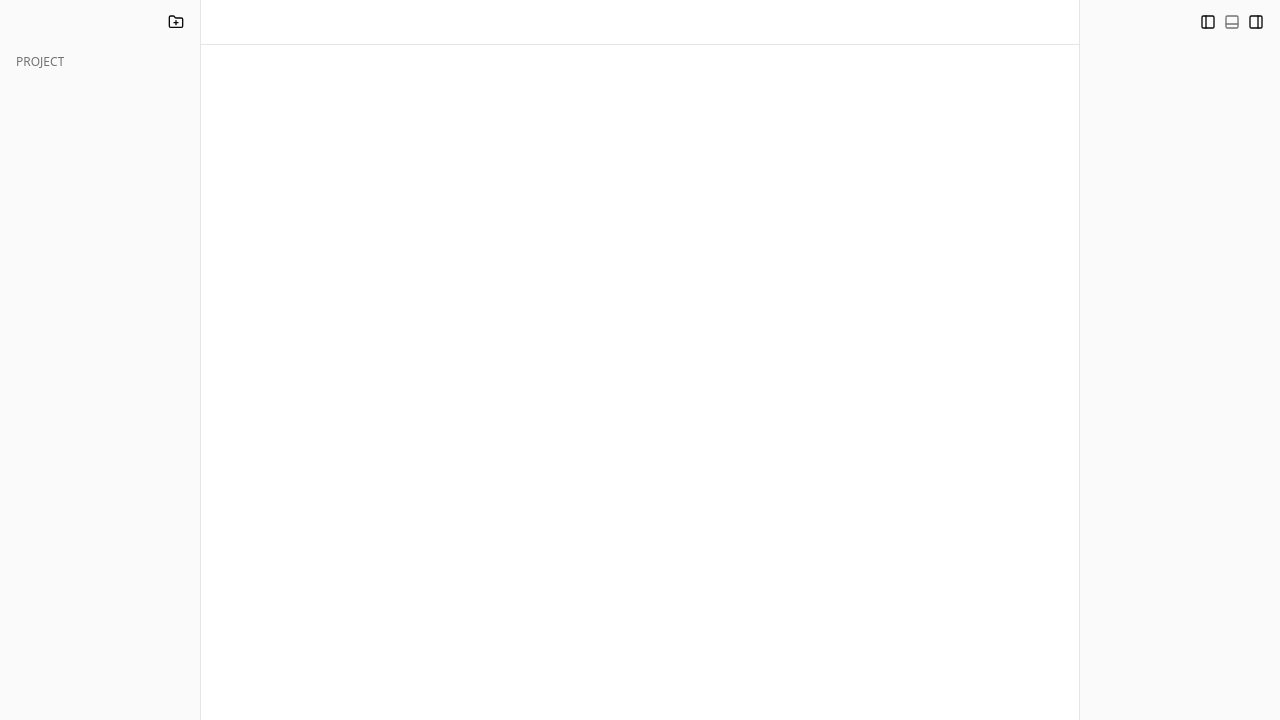
A session's context menu › shows archived sessions only while the workspace shows them
The width and height of the screenshot is (1280, 720).
Expected: the text "Archived" is not shown
Right-click the heading "project".
right_click(40, 62)  # box x1=16 y1=53 x2=64 y2=71
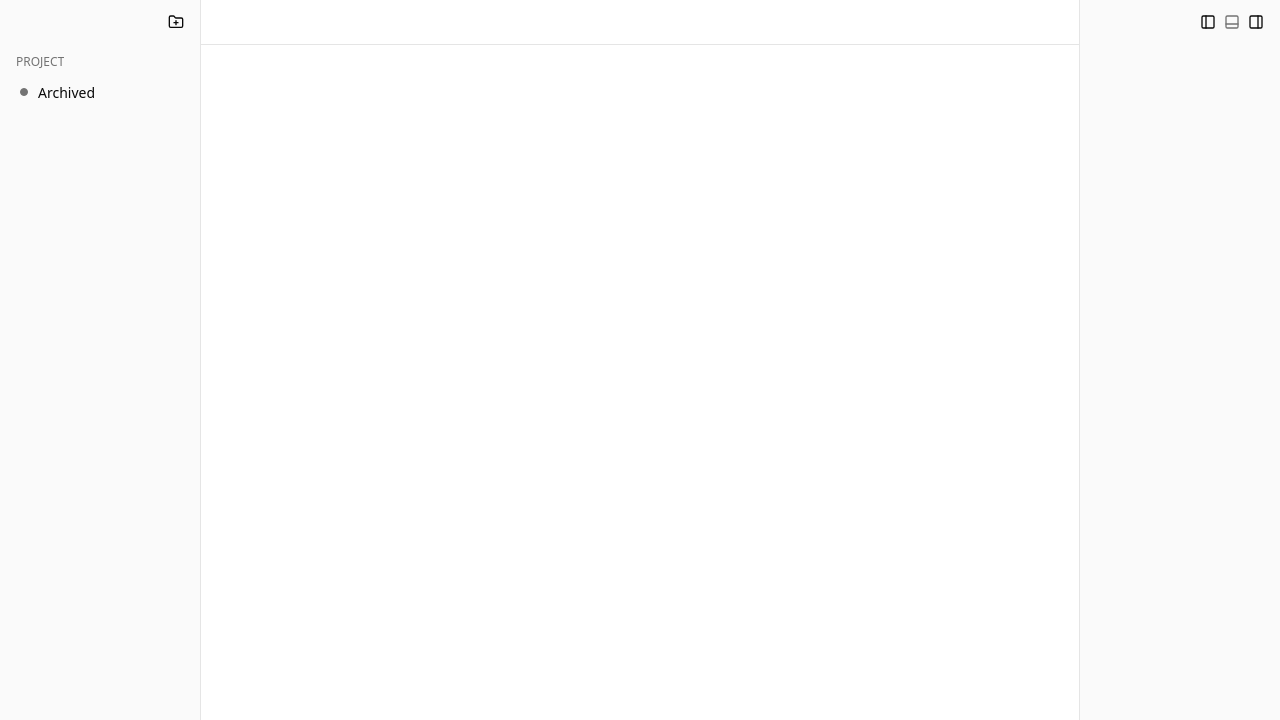
Right-click the list item "Archived".
right_click(100, 92)  # box x1=8 y1=76 x2=192 y2=108
Right-click the heading "project".
right_click(40, 62)  # box x1=16 y1=53 x2=64 y2=71
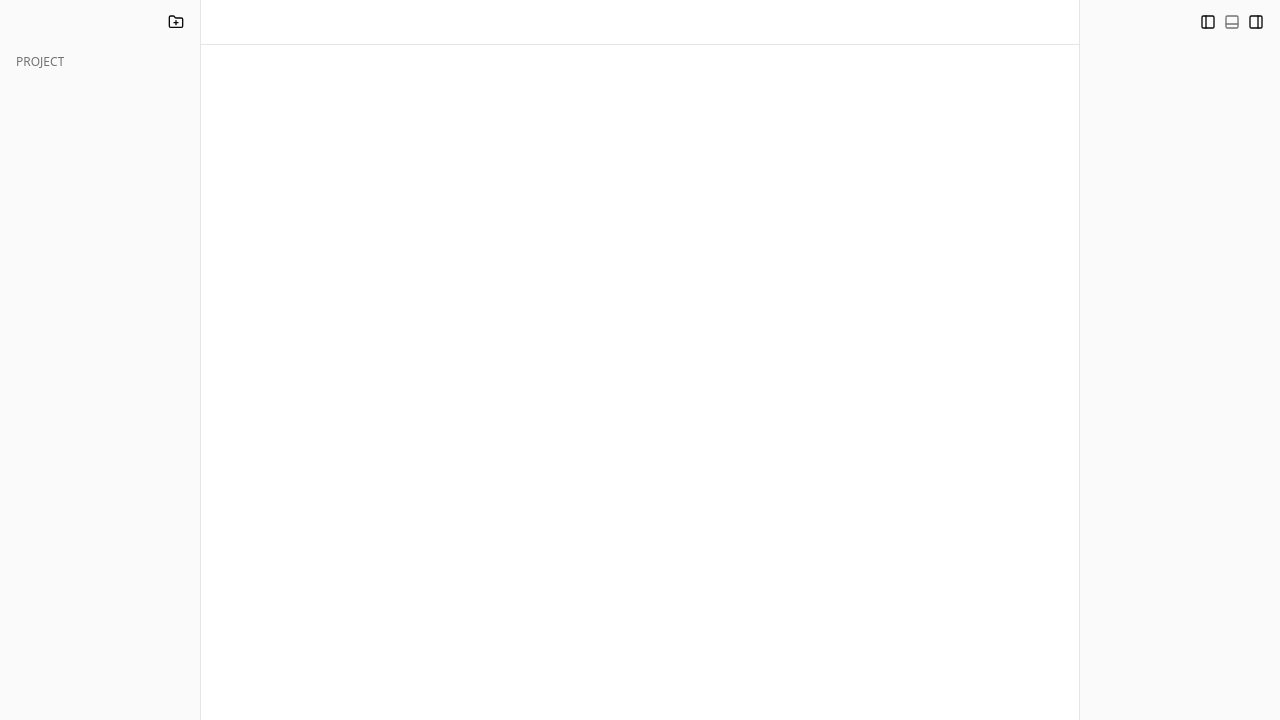
Expected: the button "Archived" is gone
